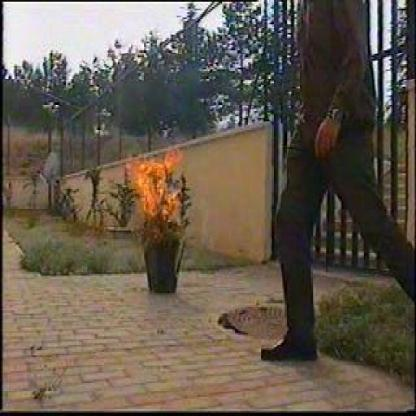fire: (123, 140, 187, 223)
